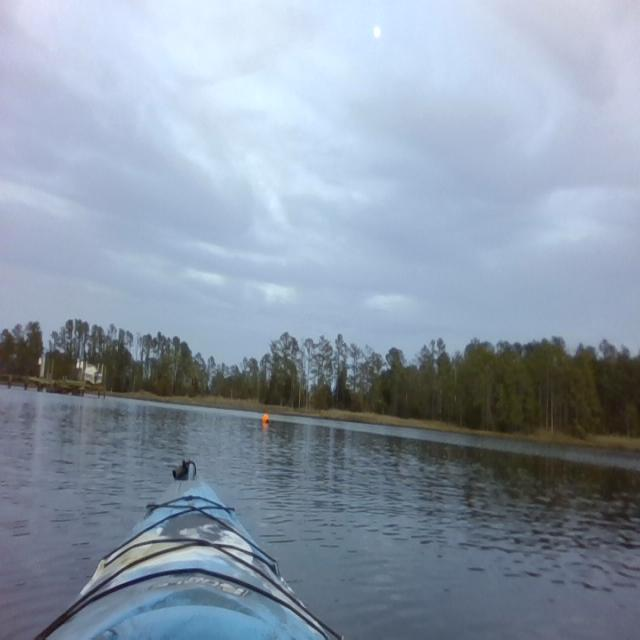Buoy: (260, 410, 270, 425)
